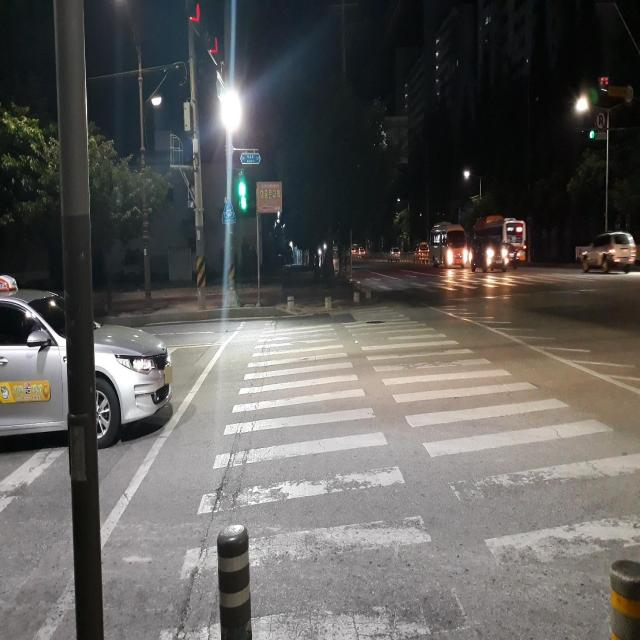횡단보도: (156, 313, 640, 640)
